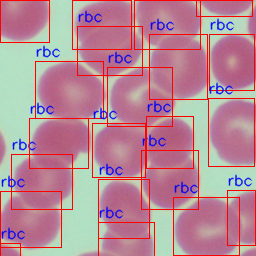rbc: (35, 61, 103, 118), (107, 67, 172, 126), (173, 197, 239, 255), (149, 34, 207, 99), (0, 191, 61, 247), (141, 150, 198, 209), (11, 154, 72, 209), (134, 0, 200, 49), (77, 26, 142, 75), (208, 98, 254, 166), (98, 179, 149, 238), (29, 118, 88, 168), (72, 0, 131, 49), (92, 123, 145, 177), (209, 34, 254, 90), (146, 116, 193, 168), (0, 0, 49, 42), (98, 222, 154, 256), (227, 190, 255, 245), (196, 0, 252, 16), (0, 243, 20, 256)
